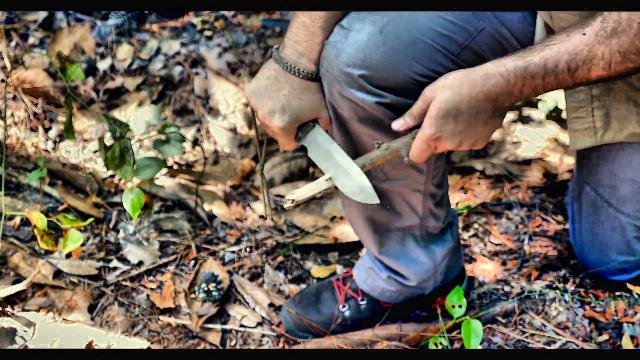knife: (250, 104, 386, 210)
